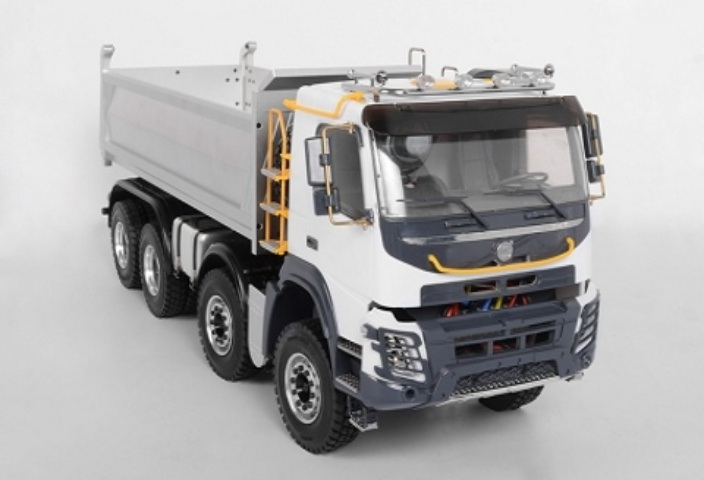truck: (51, 17, 619, 459)
